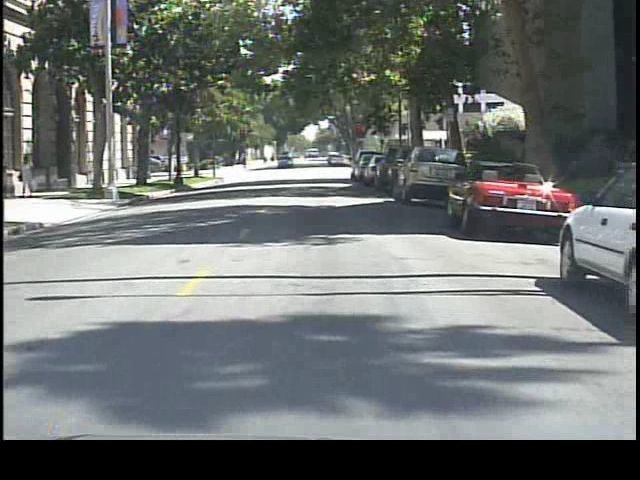person: (15, 152, 41, 196)
